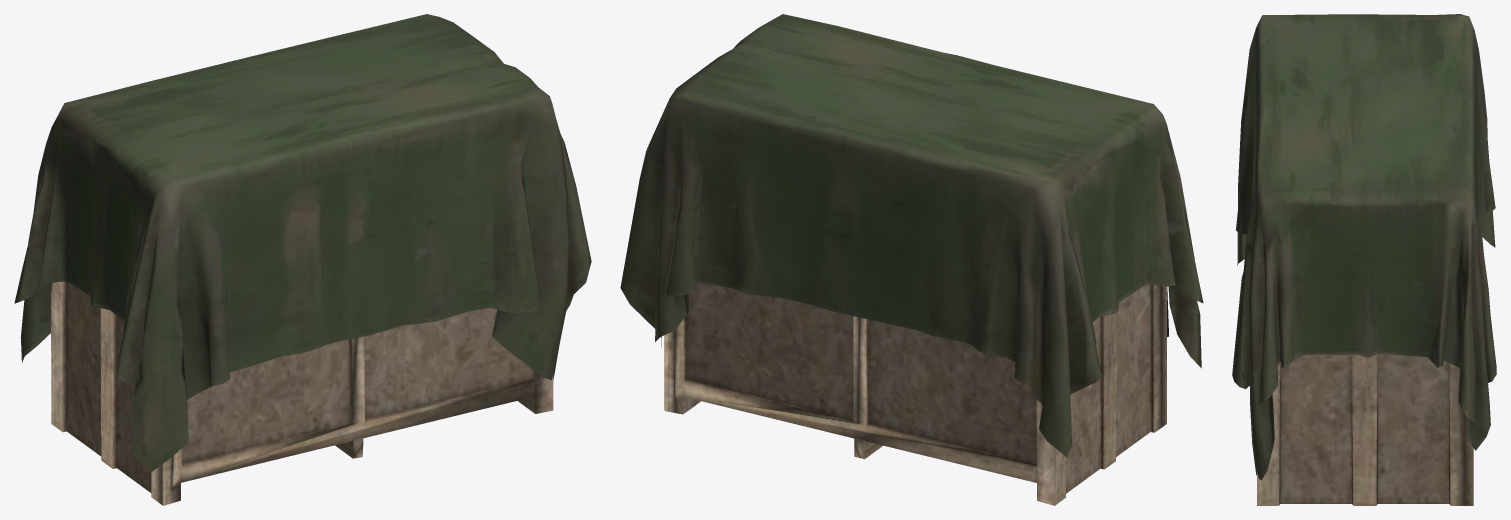
File: wooden_crate_e.glb
3 renders of one model, left to right at view 1: azimuth 30°, elevation 25°; view 2: azimuth 150°, elevation 25°; view 3: azimuth 270°, elevation 25°, orthographic. The views are drawn at different scales.
Parts seen in each view (by area): view 1: wooden_crate_e; view 2: wooden_crate_e; view 3: wooden_crate_e.
Part boxes in pixels (box(x1,y1,x2,y2)): wooden_crate_e: box(14, 14, 591, 505); wooden_crate_e: box(620, 14, 1203, 505); wooden_crate_e: box(1232, 14, 1496, 505).
Size of the model in its own units: 2.44 by 1.57 by 1.21.
Materials: 2 (2 with a texture image).
